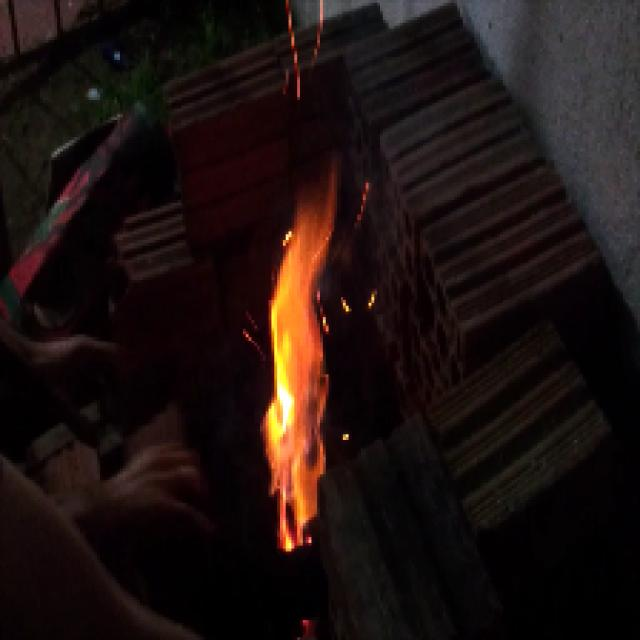fire: (261, 196, 347, 556)
